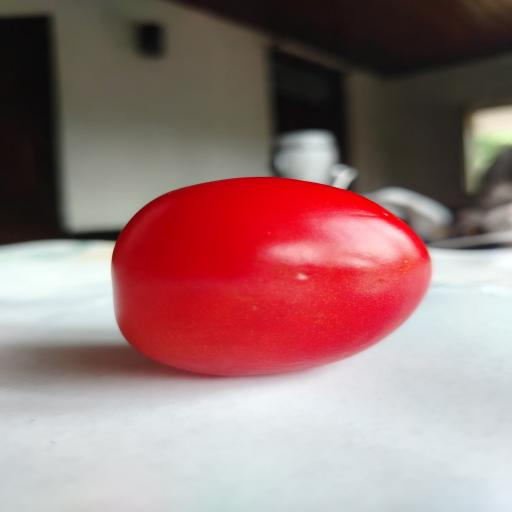ripe: (112, 177, 431, 375)
